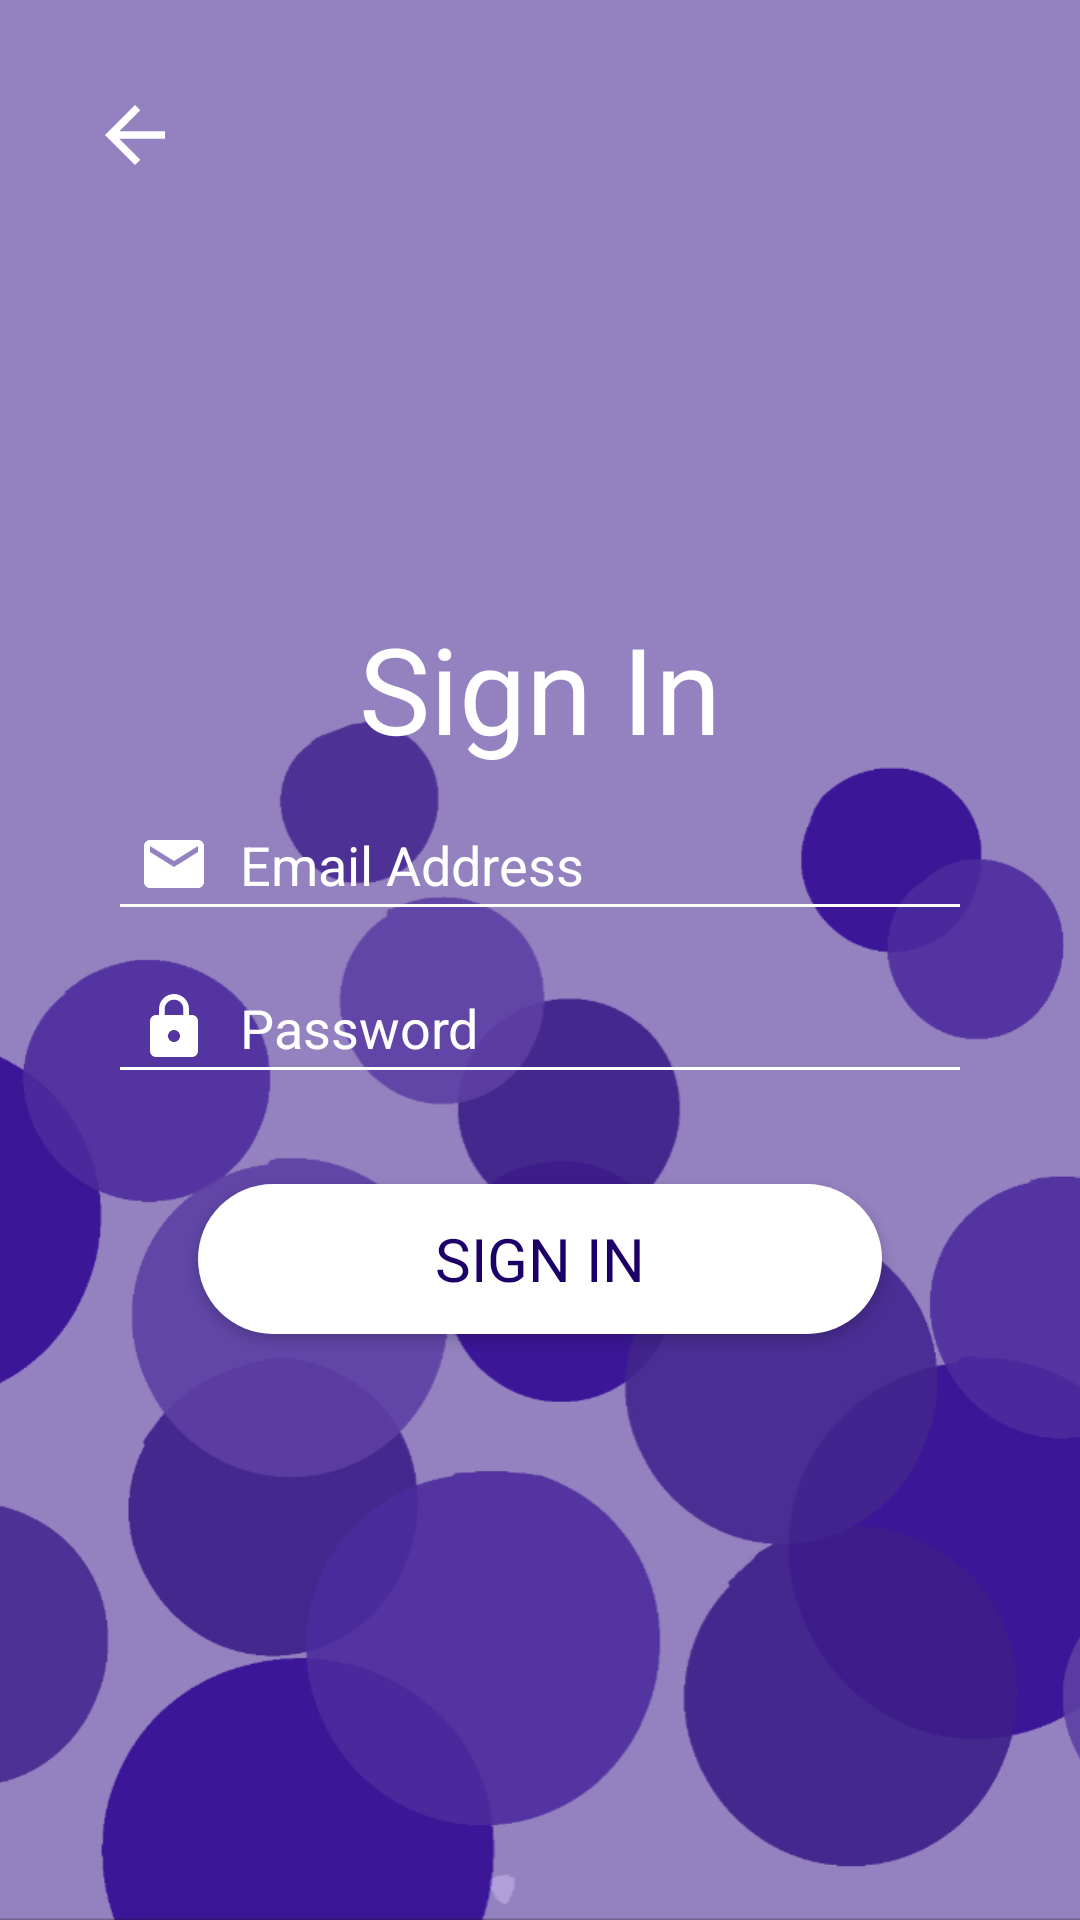

Icon bounding boxes for this 1080x1920 phone screenshot, format {"x1": x1, "y1": y1, "x2": x2, "y2": y2}:
back: {"x1": 105, "y1": 105, "x2": 165, "y2": 165}
